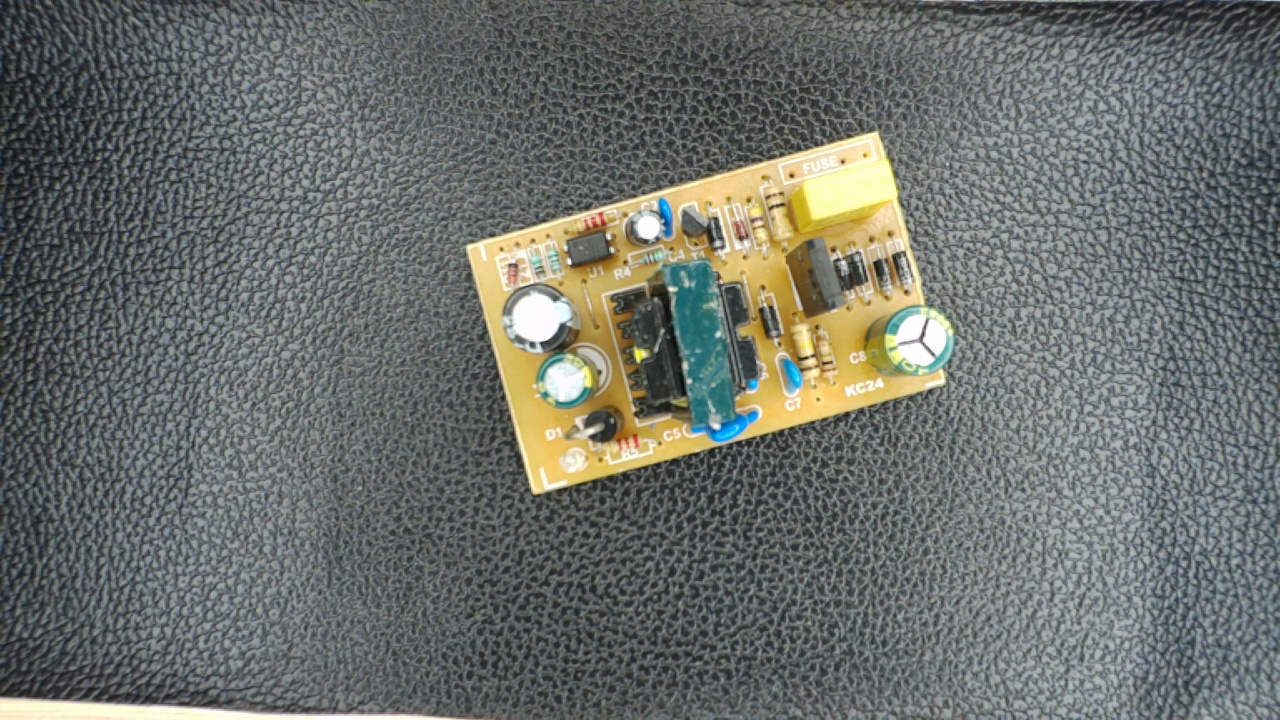hv_capacitor: (864, 303, 954, 375)
mov: (681, 411, 761, 443)
optocoupler: (554, 230, 624, 267)
